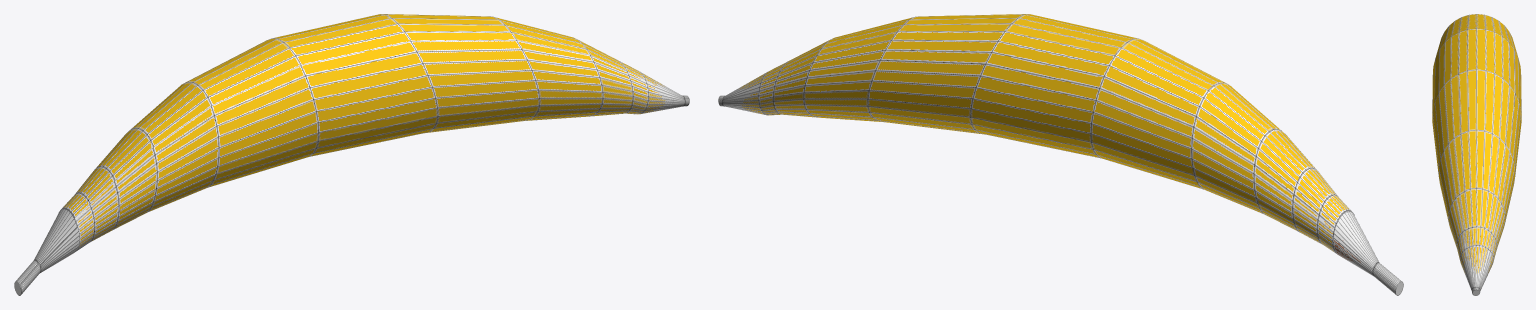
File: Banaani 01.fbx
3 views of the same model, side by side, from view 1: azimuth 30°, elevation 25°; view 2: azimuth 150°, elevation 25°; view 3: azimuth 270°, elevation 25° (orthographic). The views are drawn at different scales.
Parts seen in each view (by area): view 1: Cylinder; view 2: Cylinder; view 3: Cylinder.
Part boxes in pixels (x1,y1,x2,y2): Cylinder: [14, 14, 689, 295]; Cylinder: [718, 14, 1403, 295]; Cylinder: [1432, 14, 1521, 295].
Bounding box in the file's own units: 2.28 × 14.77 × 3.92.
1 material, 1 textured.
